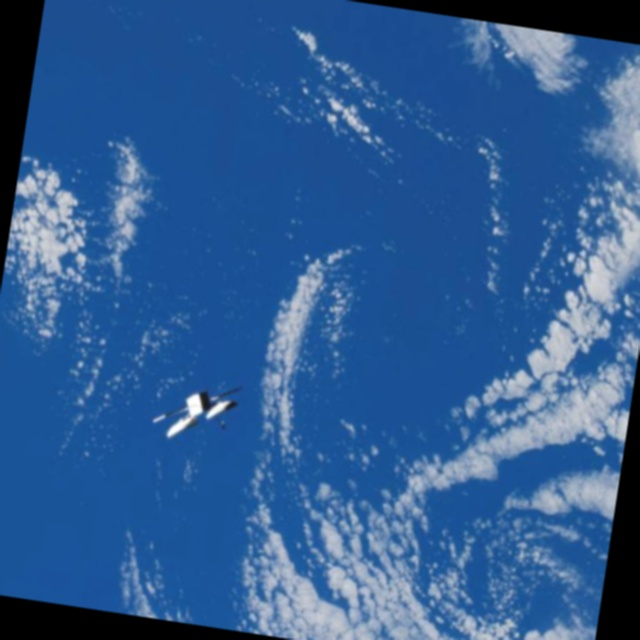satellite: (138, 359, 257, 459)
